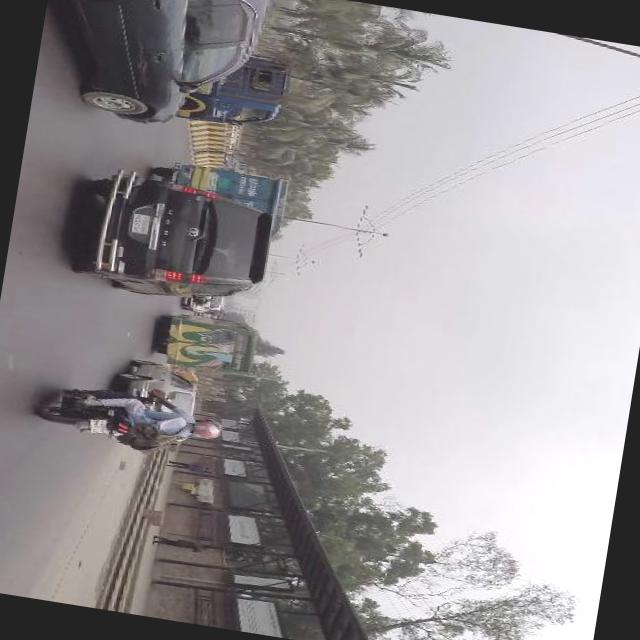bus: (142, 308, 264, 380)
car: (34, 0, 271, 147), (110, 356, 208, 432), (183, 292, 230, 318)
motorcycle: (32, 380, 153, 449)
truck: (66, 166, 282, 316), (160, 36, 304, 142), (144, 156, 296, 240)
